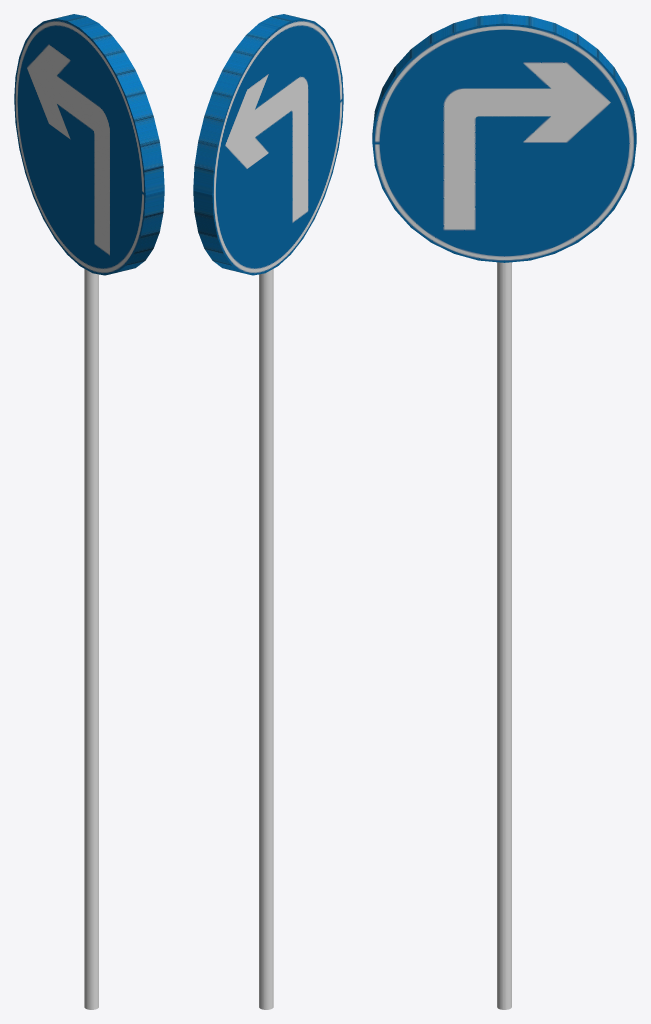
The model's file is sign.fbx.
3 views of the same model, side by side, from view 1: azimuth 30°, elevation 25°; view 2: azimuth 150°, elevation 25°; view 3: azimuth 270°, elevation 25° (orthographic).
Visible parts, largest first — view 1: Circle; view 2: Circle; view 3: Circle.
Part boxes in pixels (x1,y1,x2,y2): Circle: (14,14,164,1009); Circle: (193,14,343,1009); Circle: (372,14,636,1009).
Size of the model in its own units: 16.86 by 824 by 200.
